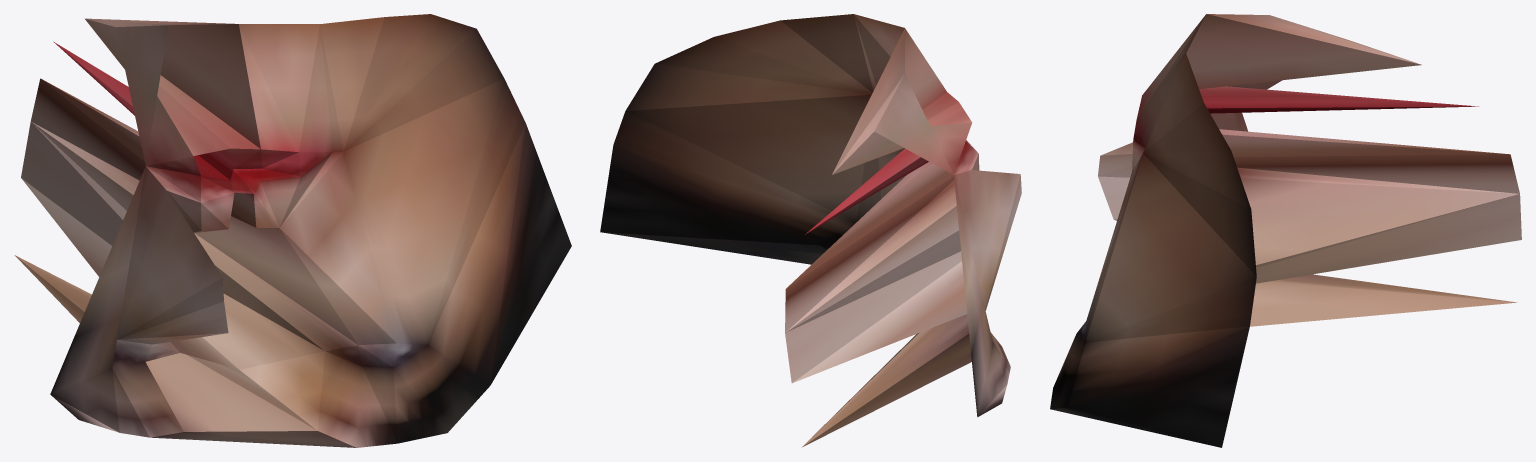
The model's file is real_1109.obj.
3 renders of one model, left to right at view 1: azimuth 30°, elevation 25°; view 2: azimuth 150°, elevation 25°; view 3: azimuth 270°, elevation 25°, orthographic. The views are drawn at different scales.
Size of the model in its own units: 109 by 83 by 103.
